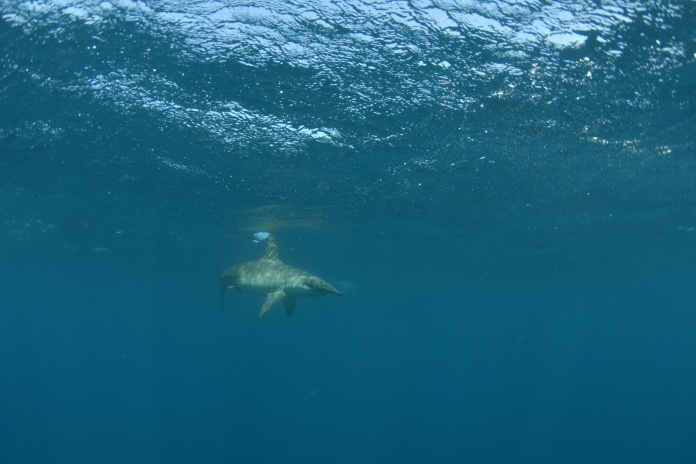Hammer: (212, 228, 352, 331)
